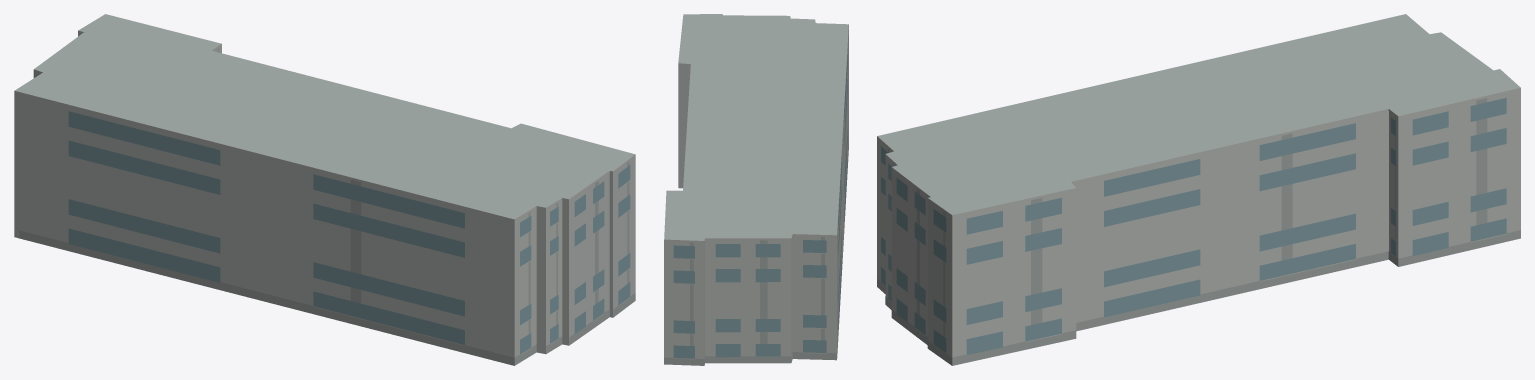
Rendered from survey-upis-32624128.glb.
The picture shows the model from 3 angles, left to right: view 1: azimuth 30°, elevation 25°; view 2: azimuth 150°, elevation 25°; view 3: azimuth 270°, elevation 25°; orthographic projection. The views are drawn at different scales.
Parts seen in each view (by area): view 1: survey-upis-32624128.tmp; view 2: survey-upis-32624128.tmp; view 3: survey-upis-32624128.tmp.
Boxes of the visible parts, bbox=[...] form: survey-upis-32624128.tmp: bbox=[14, 14, 635, 365]; survey-upis-32624128.tmp: bbox=[664, 14, 848, 365]; survey-upis-32624128.tmp: bbox=[877, 14, 1520, 365].
Size of the model in its own units: 44.67 by 15.6 by 60.4.
